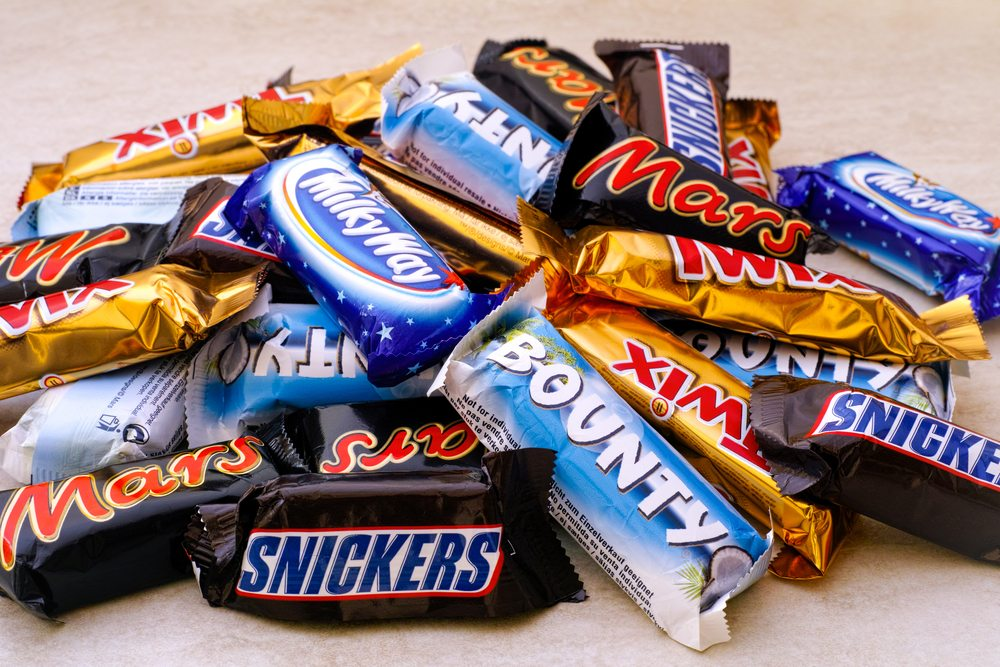snickers: (818, 390, 998, 484), (236, 531, 500, 592), (662, 51, 720, 170), (818, 390, 992, 429)
